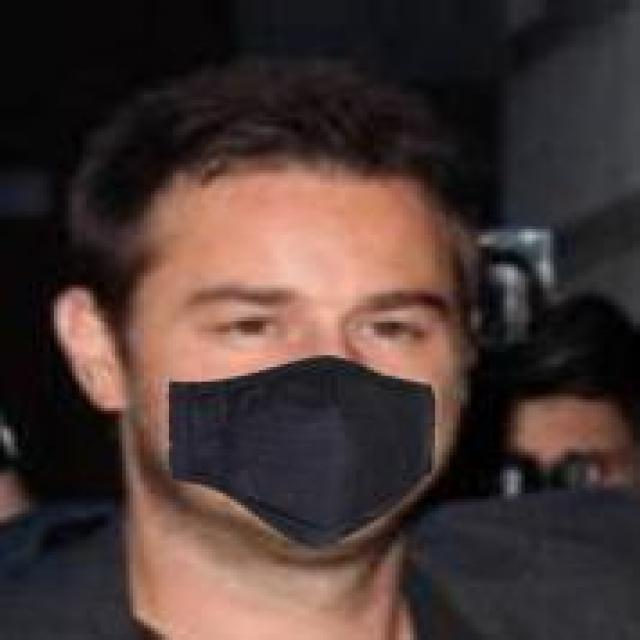mask: (72, 76, 489, 587)
